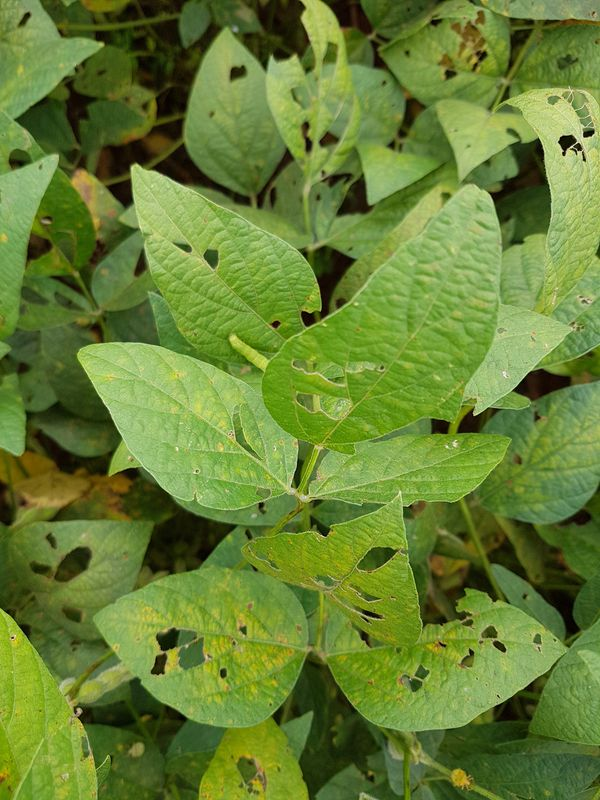Anticarsia_gemmatalis: (221, 328, 290, 382)
Euschistus_heros_ninfa: (444, 764, 476, 793)
